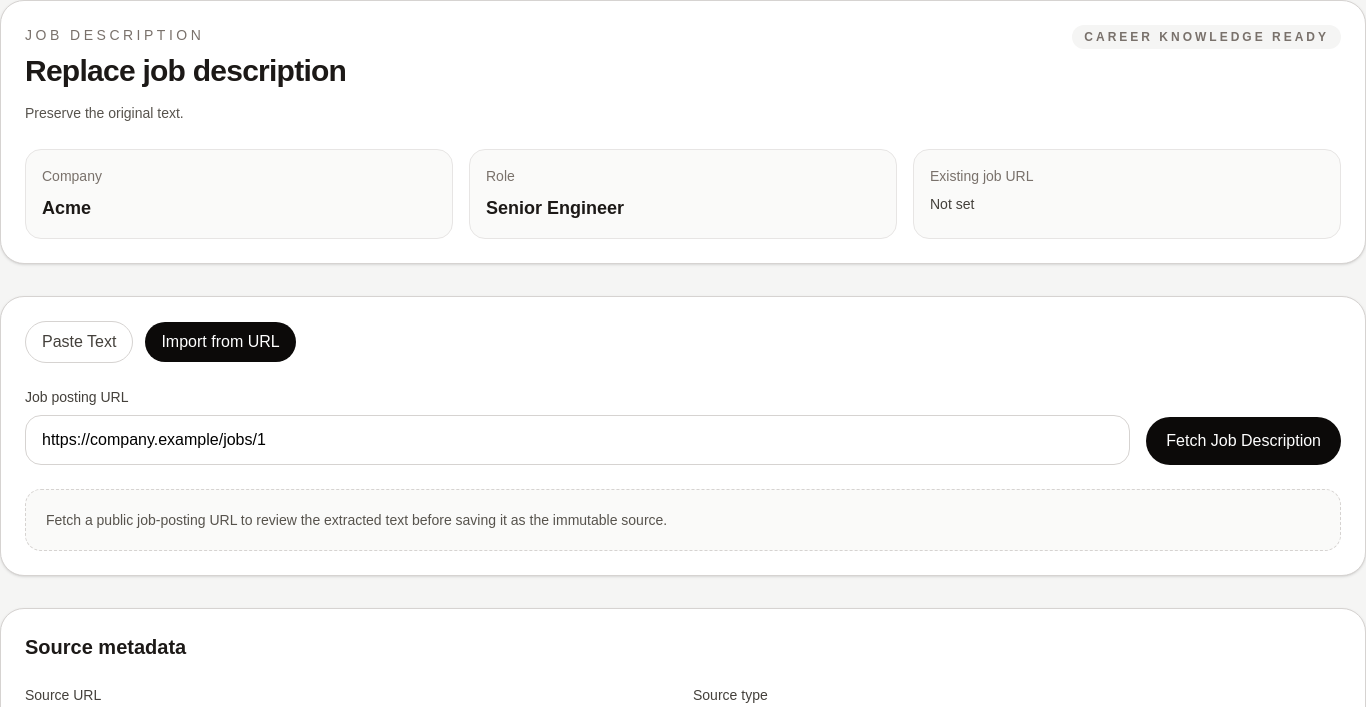
Test: JobDescriptionForm › shows fetch errors, supports switching back to paste, and highlights changed refetches
Click the button "Fetch Job Description": (1244, 441) x1=1146 y1=417 x2=1341 y2=465
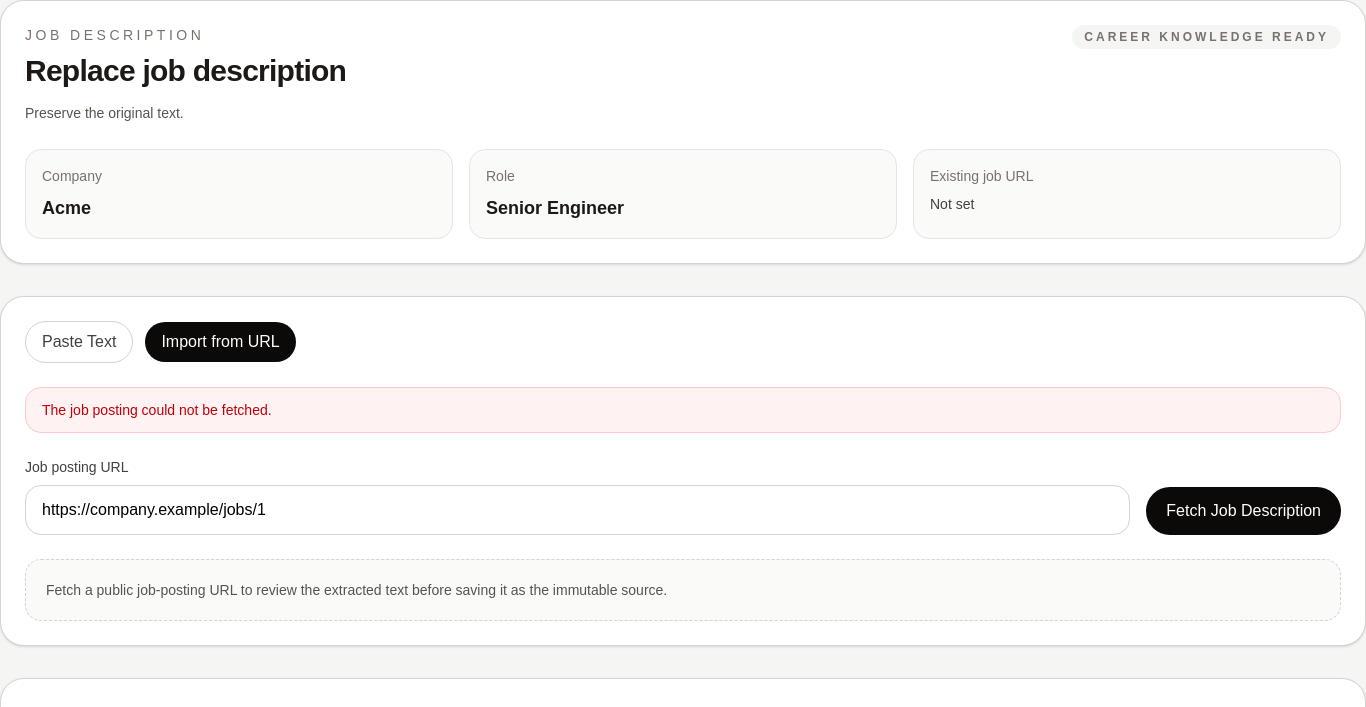
Expected: the text "The job posting could not be fetched." is shown, x1=25 y1=387 x2=1341 y2=433
Click the button "Fetch Job Description": (1244, 511) x1=1146 y1=487 x2=1341 y2=535
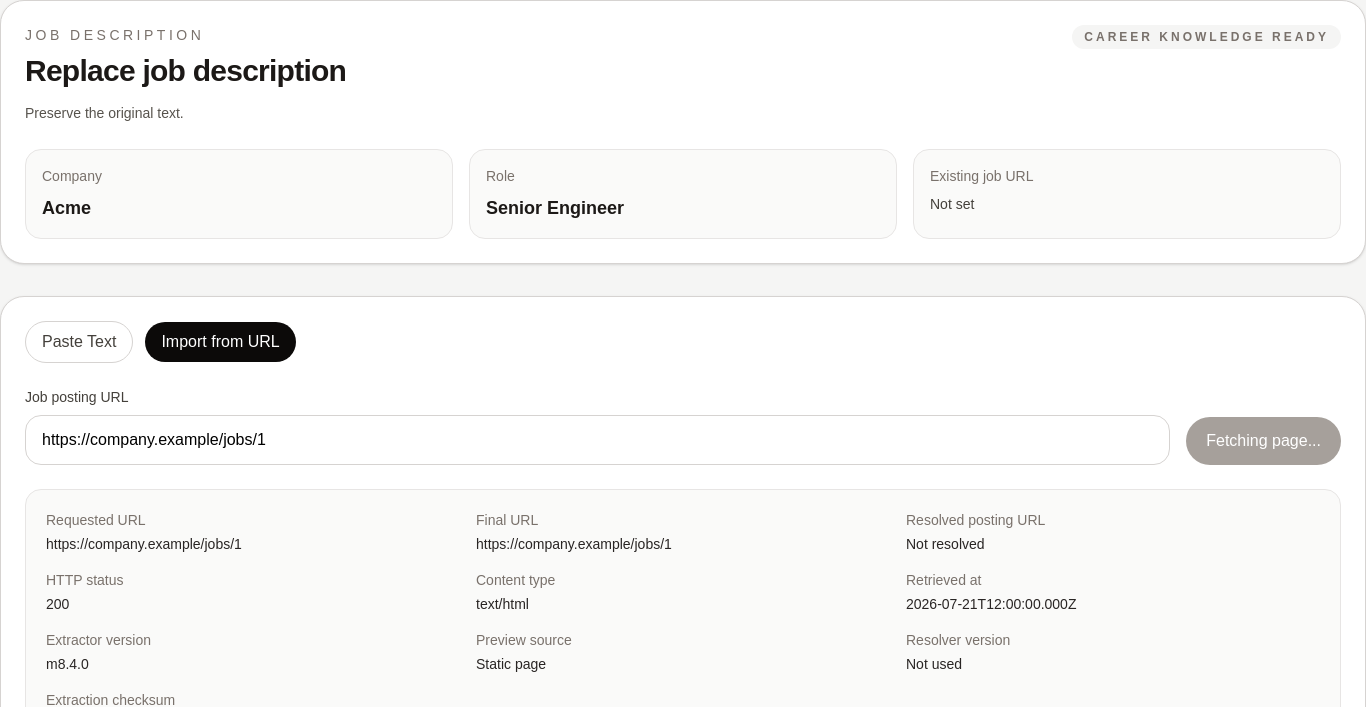
Click the button "Paste Text": (79, 342) x1=25 y1=321 x2=133 y2=363
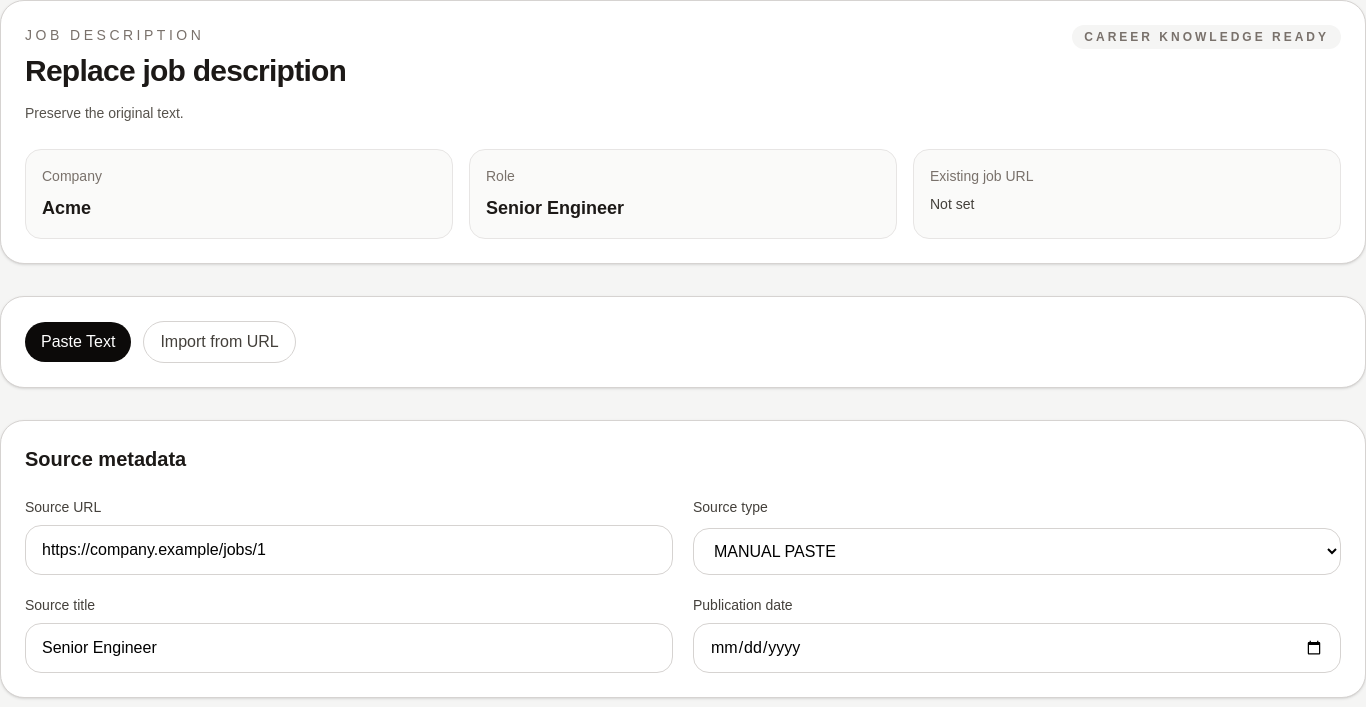
Expected: the text "Requested URL" is gone
